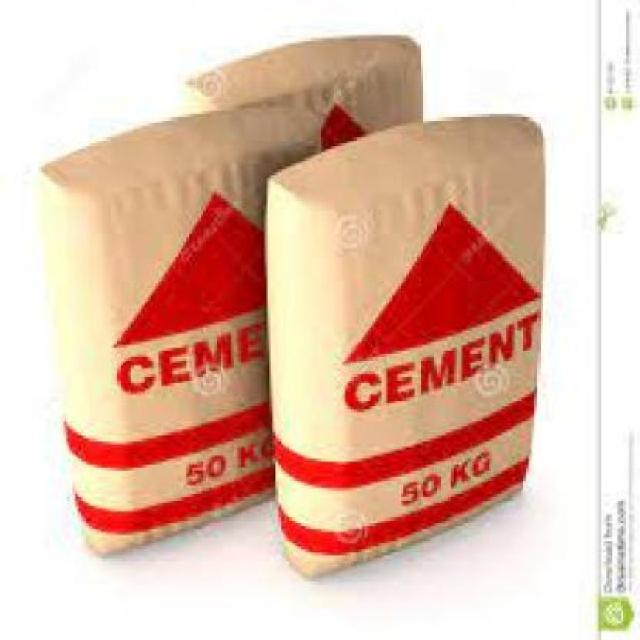gunny_bag: (318, 138, 541, 576), (94, 123, 306, 560), (204, 32, 408, 109)
